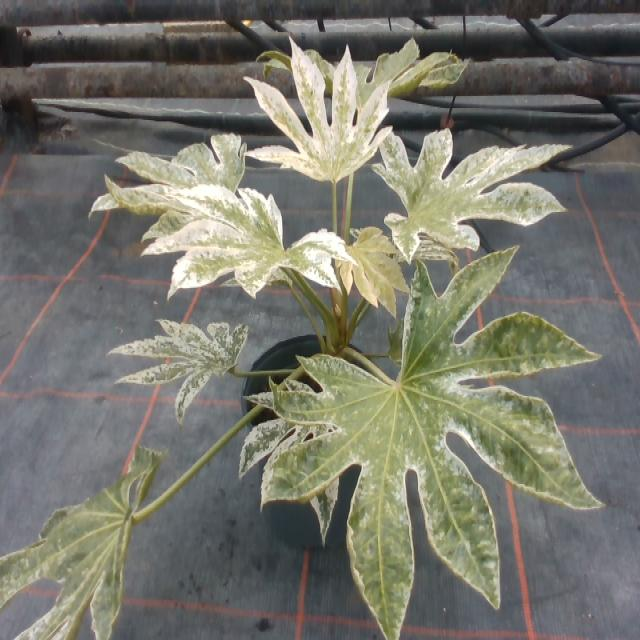Fatsia-japonica: (252, 246, 613, 640), (0, 437, 168, 640), (132, 159, 346, 307), (370, 106, 560, 266), (238, 376, 392, 557), (240, 63, 395, 182), (88, 118, 258, 221), (255, 30, 459, 103), (128, 283, 244, 406), (318, 209, 397, 300)
